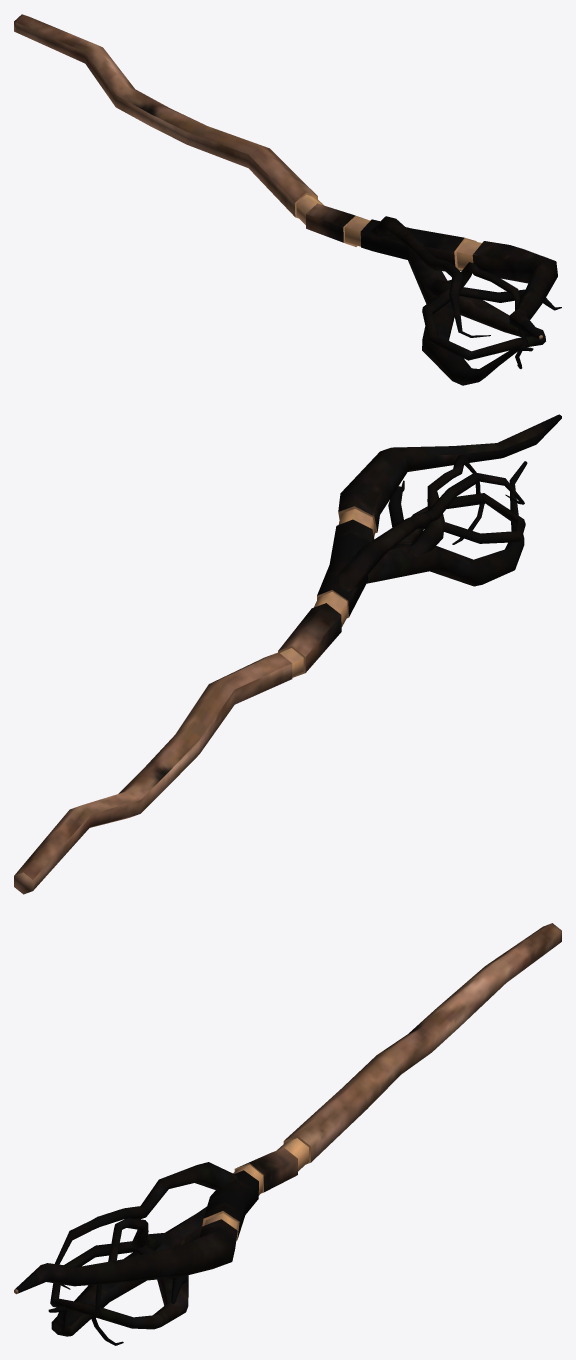
File: StaffBase01.fbx
3 views of the same model, one above another, from view 1: azimuth 30°, elevation 25°; view 2: azimuth 150°, elevation 25°; view 3: azimuth 330°, elevation 25° (orthographic). The views are drawn at different scales.
Parts seen in each view (by area): view 1: attach; view 2: attach; view 3: attach.
Boxes of the visible parts, <box> form: attach: <box>14,14,561,385</box>; attach: <box>14,414,561,894</box>; attach: <box>14,923,561,1345</box>.
Size of the model in its own units: 30.14 by 22.01 by 203.
